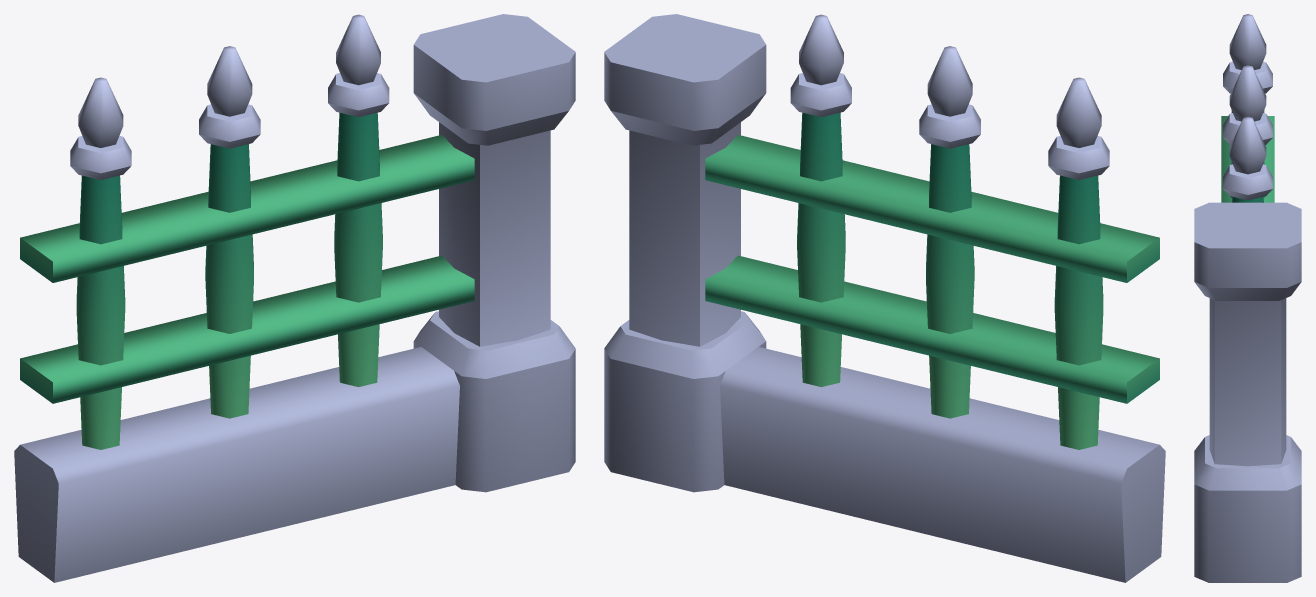
The model's file is iron-fence-border-column_lev2.glb.
3 views of the same model, side by side, from view 1: azimuth 30°, elevation 25°; view 2: azimuth 150°, elevation 25°; view 3: azimuth 270°, elevation 25° (orthographic). The views are drawn at different scales.
Visible parts, largest first — view 1: iron-fence-border-column_lev2; view 2: iron-fence-border-column_lev2; view 3: iron-fence-border-column_lev2.
Boxes of the visible parts, left/top/right/bottom form: iron-fence-border-column_lev2: left=14, top=14, right=575, bottom=582; iron-fence-border-column_lev2: left=604, top=14, right=1165, bottom=582; iron-fence-border-column_lev2: left=1194, top=14, right=1301, bottom=582.
Size of the model in its own units: 8 by 7.03 by 1.77.
Materials: 1 (1 with a texture image).
